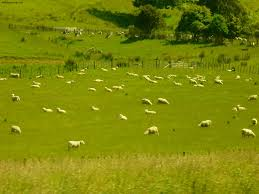sheep: (64, 136, 86, 152), (143, 106, 165, 118), (144, 123, 164, 136), (197, 119, 217, 131), (8, 122, 25, 136), (239, 128, 257, 141), (231, 103, 247, 117), (153, 96, 171, 108), (182, 74, 198, 86), (171, 77, 188, 88), (244, 92, 258, 105), (124, 69, 139, 81), (140, 74, 157, 84), (9, 91, 24, 102), (77, 65, 89, 77), (212, 76, 225, 87), (56, 106, 69, 116), (84, 84, 97, 94), (192, 82, 208, 90), (143, 97, 157, 106), (9, 71, 23, 80), (110, 82, 124, 91), (90, 104, 103, 113), (100, 85, 113, 94), (91, 77, 105, 85), (248, 116, 259, 126), (40, 105, 52, 114), (31, 80, 43, 89), (151, 73, 164, 81), (54, 71, 65, 80), (118, 112, 128, 121), (64, 79, 75, 87), (99, 67, 109, 75)
